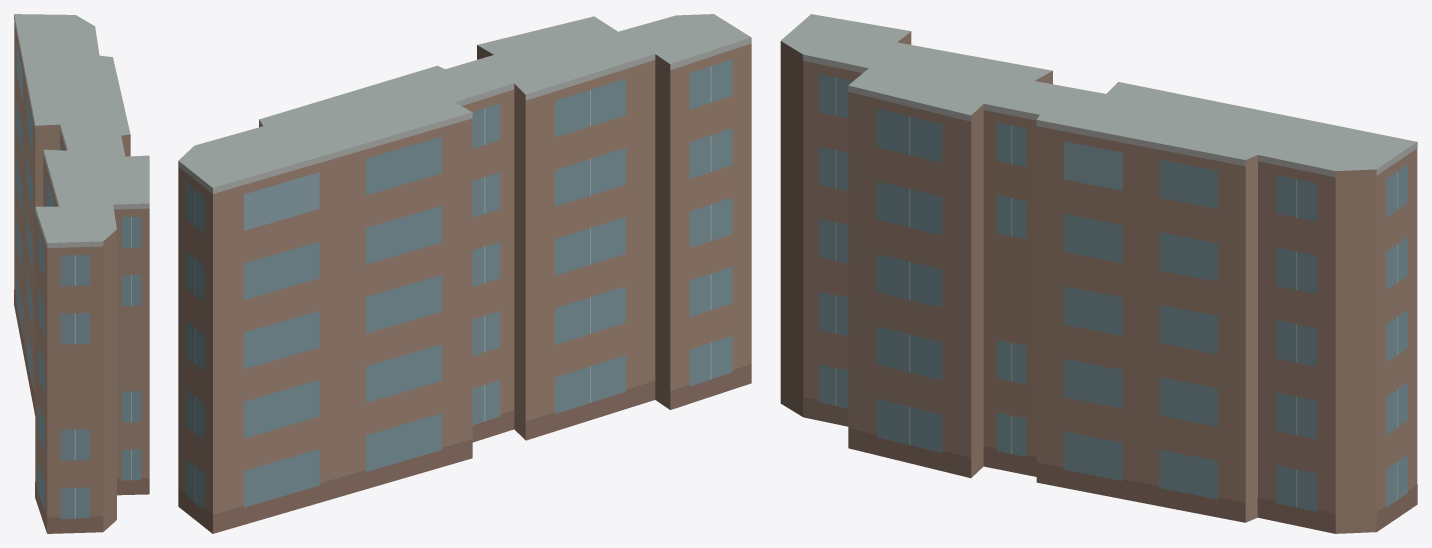
The model's file is survey-upis-32744865.glb.
The picture shows the model from 3 angles, left to right: view 1: azimuth 30°, elevation 25°; view 2: azimuth 150°, elevation 25°; view 3: azimuth 270°, elevation 25°; orthographic projection. The views are drawn at different scales.
Visible parts, largest first — view 1: survey-upis-32744865.tmp; view 2: survey-upis-32744865.tmp; view 3: survey-upis-32744865.tmp.
Boxes of the visible parts, box(x1,y1,x2,y2) form: survey-upis-32744865.tmp: box(14, 14, 149, 533); survey-upis-32744865.tmp: box(178, 14, 751, 533); survey-upis-32744865.tmp: box(780, 14, 1417, 533).
Bounding box in the file's own units: 13.11 × 14.1 × 22.45.
